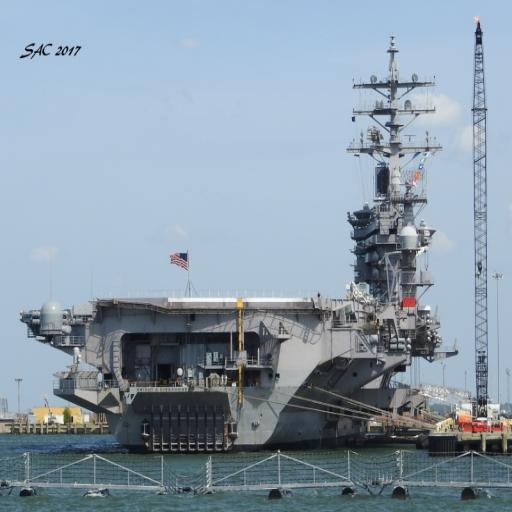Portanaves: (17, 34, 462, 458)
